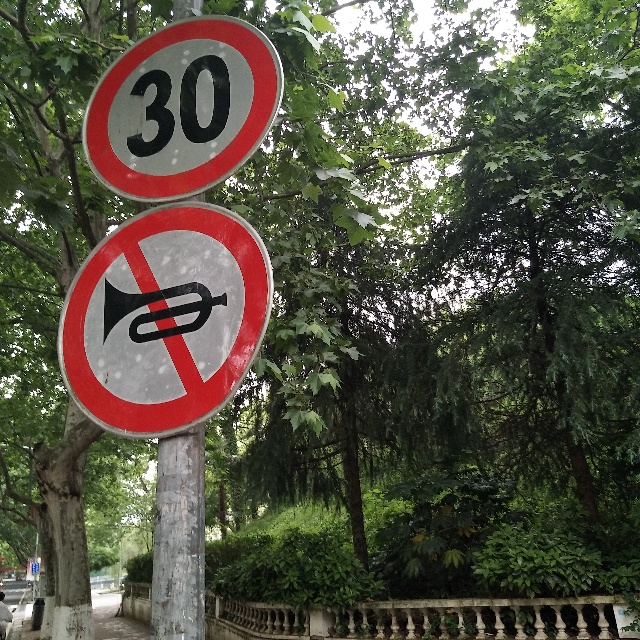nohonk: (71, 232, 237, 399)
